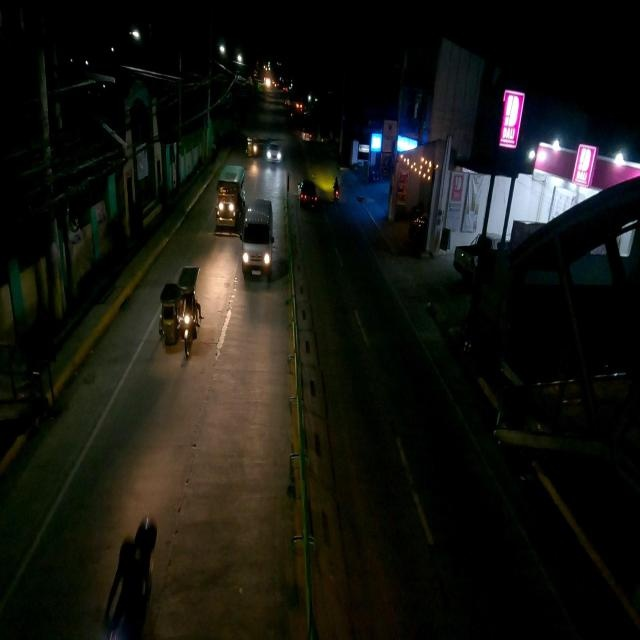Motorcycle: (333, 177, 341, 204)
Van: (241, 198, 274, 282)
